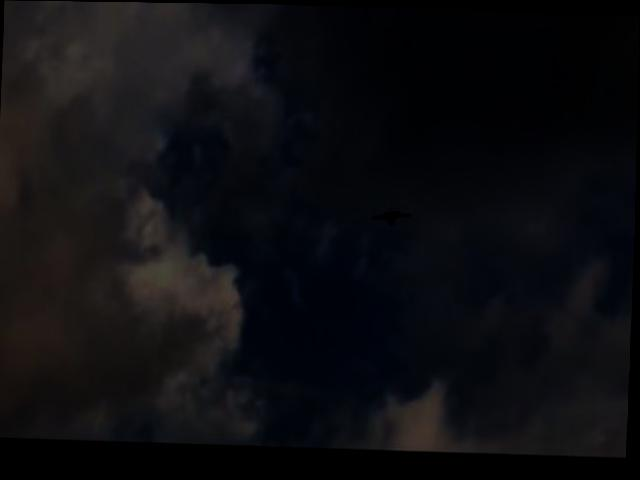uav: (366, 195, 423, 234)
